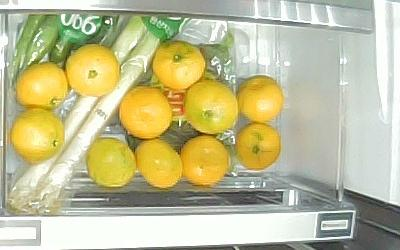tangerine: (11, 108, 66, 165), (118, 85, 173, 139), (183, 81, 240, 133), (66, 44, 119, 96), (86, 137, 137, 188), (151, 41, 203, 90), (134, 139, 183, 187), (181, 135, 228, 185), (15, 62, 67, 107), (236, 75, 282, 123), (234, 123, 280, 170)
